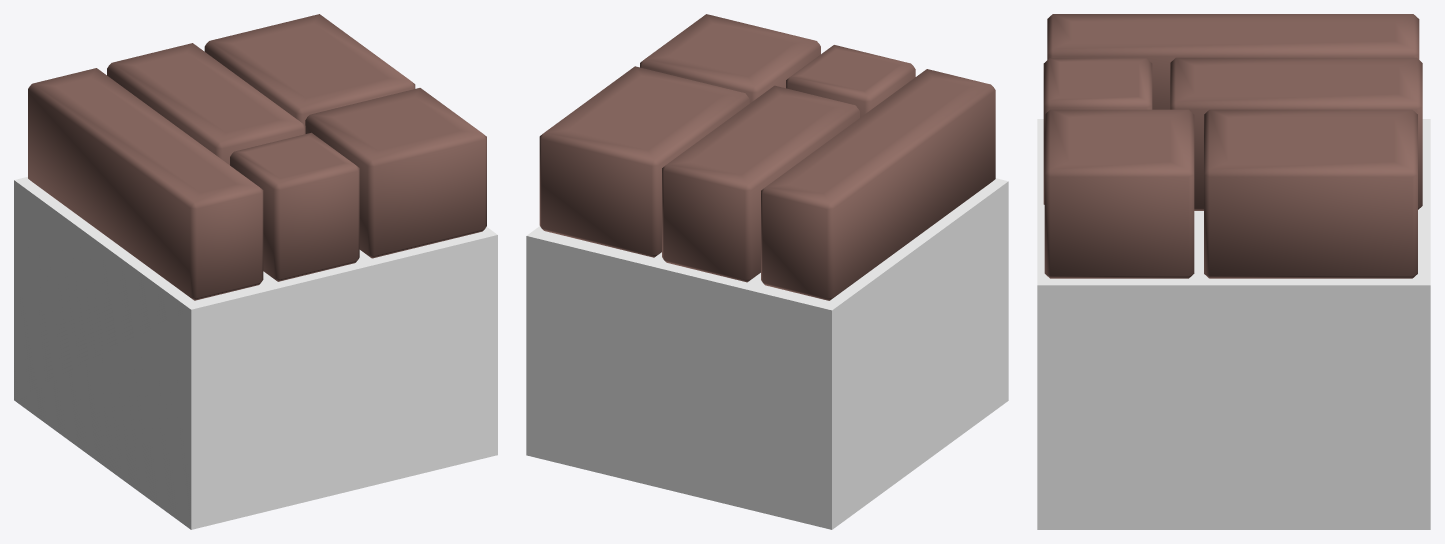
The model's file is Floor18.fbx.
The picture shows the model from 3 angles, left to right: view 1: azimuth 30°, elevation 25°; view 2: azimuth 150°, elevation 25°; view 3: azimuth 270°, elevation 25°; orthographic projection. The views are drawn at different scales.
Visible parts, largest first — view 1: Cube.309; view 2: Cube.309; view 3: Cube.309.
Boxes of the visible parts, <box> form: Cube.309: <box>14,14,497,529</box>; Cube.309: <box>526,14,1008,529</box>; Cube.309: <box>1037,14,1430,529</box>.
Bounding box in the file's own units: 100 × 99.65 × 100.
